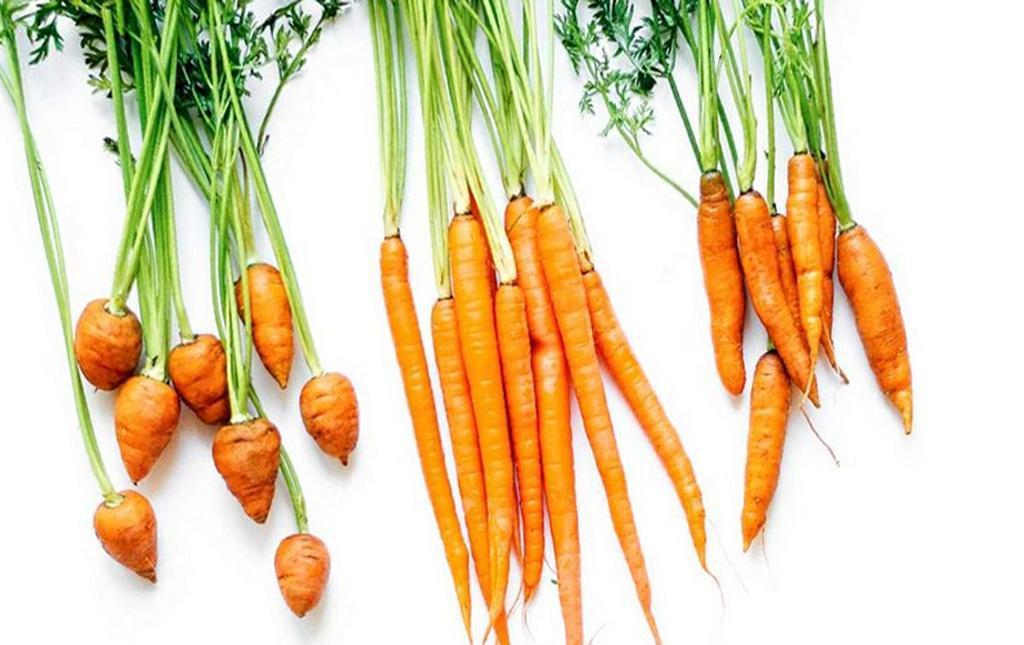carrot: (376, 235, 698, 645), (698, 144, 936, 552), (226, 257, 312, 391), (106, 372, 180, 485), (301, 375, 379, 470), (70, 287, 142, 389), (168, 337, 253, 417), (222, 412, 293, 505), (97, 488, 167, 579), (271, 527, 330, 629)
